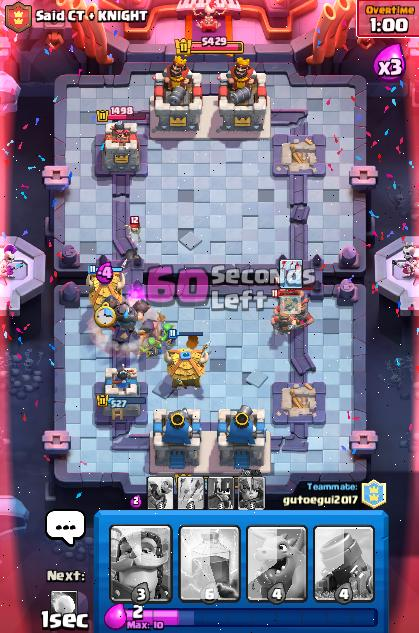EBomber: (128, 225, 141, 242)
EKingTower: (217, 57, 266, 130), (154, 55, 201, 130)
ERoyalR: (291, 298, 313, 328), (271, 313, 295, 333), (276, 295, 295, 316)
EnemyPrincessTower: (95, 107, 145, 175)
OGoblinHut: (164, 344, 208, 387), (86, 265, 124, 309)
OMegaKnight: (116, 301, 137, 332)
OSpearGoblin: (141, 335, 161, 357), (161, 323, 177, 344)
OwnKingTower: (217, 405, 269, 469), (150, 408, 199, 469)
OwnPrincessTower: (97, 366, 145, 420)
TowerDown: (272, 134, 324, 176), (272, 382, 323, 424)
